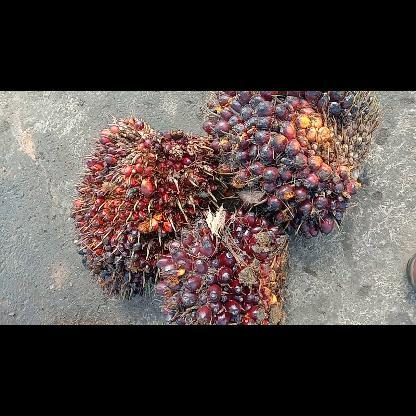Kurang masak: (201, 92, 379, 236), (152, 207, 288, 324)
TBS masak: (70, 115, 220, 299)
